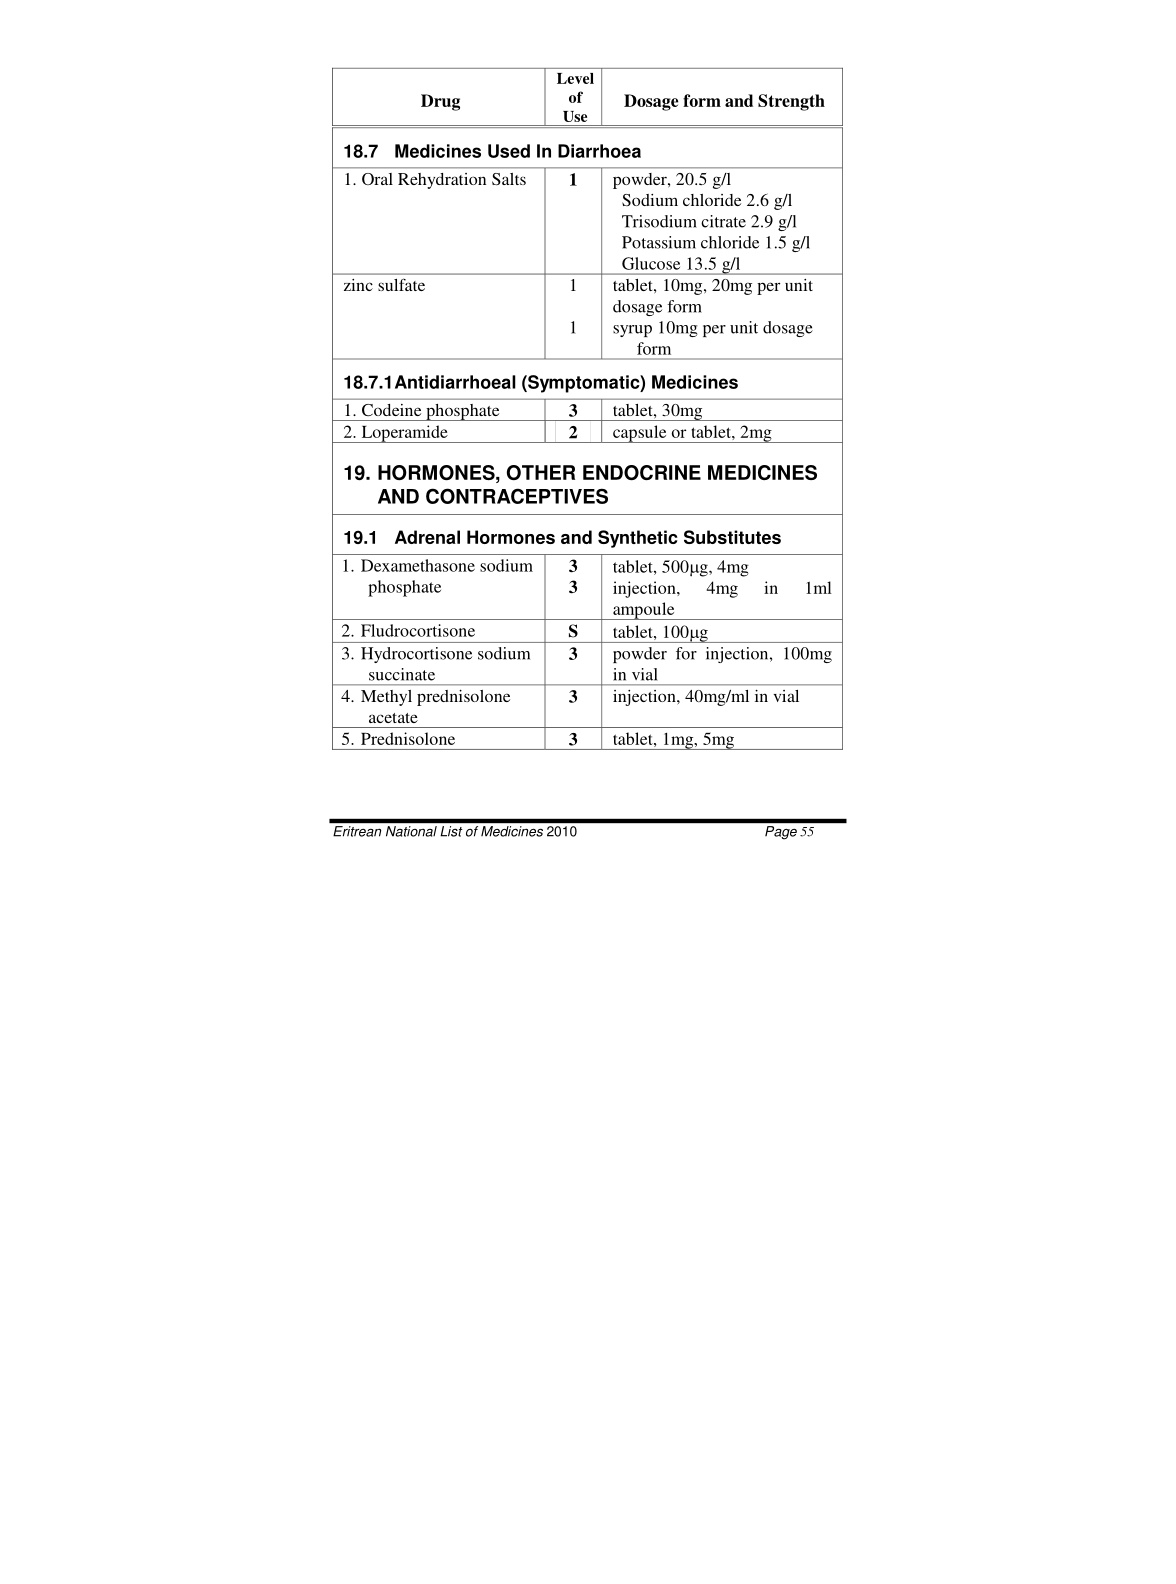merged_cells: (331, 67, 844, 750)
